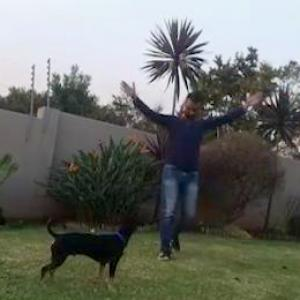takeoff: (120, 78, 267, 247)
